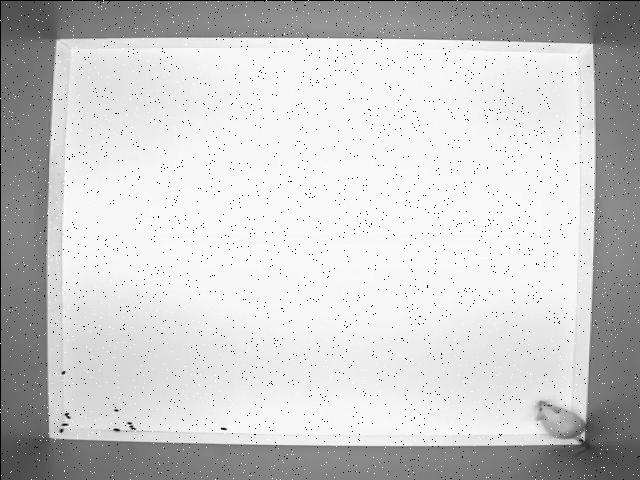Tikus: (514, 395, 594, 449)
